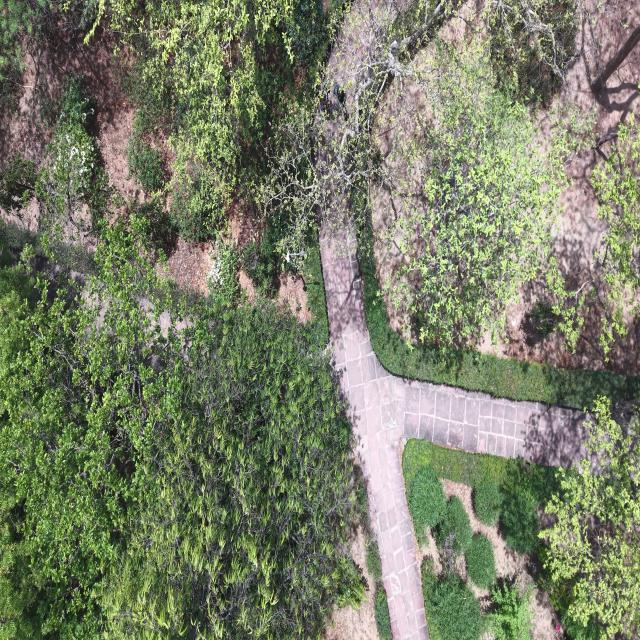DRY_AREA: (320, 229, 584, 639), (320, 233, 584, 639), (459, 0, 639, 374), (320, 236, 584, 465), (484, 0, 639, 374), (319, 229, 428, 639), (320, 235, 427, 639), (0, 10, 151, 221), (0, 11, 144, 214), (442, 479, 564, 639), (323, 524, 378, 639)
PATHWAYS: (320, 234, 585, 639)
VEGETATION_TREE: (0, 0, 639, 639), (1, 77, 362, 636), (103, 2, 583, 344), (112, 2, 573, 342), (0, 224, 363, 639), (263, 3, 589, 343), (264, 2, 585, 345), (371, 2, 639, 349), (371, 2, 639, 348), (102, 1, 450, 265), (110, 2, 454, 252), (102, 312, 363, 637), (371, 2, 589, 343), (90, 0, 339, 296), (372, 40, 574, 343), (104, 1, 328, 240), (0, 263, 129, 639), (359, 252, 639, 408), (141, 2, 294, 237), (260, 4, 403, 254), (0, 72, 172, 273), (0, 73, 128, 273), (1, 72, 122, 271), (540, 398, 639, 637), (547, 111, 639, 358), (402, 440, 565, 556), (402, 439, 561, 552), (23, 76, 110, 269), (402, 439, 557, 545), (408, 464, 493, 639), (233, 219, 327, 348), (591, 112, 639, 353), (0, 0, 94, 110), (485, 0, 576, 106), (122, 58, 173, 201), (408, 466, 471, 571), (354, 467, 391, 639), (531, 256, 596, 351), (42, 78, 94, 196), (420, 555, 483, 639), (500, 461, 556, 554), (402, 438, 509, 486), (536, 566, 604, 639), (0, 244, 35, 364), (425, 575, 482, 639), (500, 464, 539, 554), (241, 221, 286, 299), (431, 496, 472, 581), (0, 0, 44, 79), (300, 233, 328, 345), (127, 120, 165, 192), (285, 0, 327, 63), (485, 583, 532, 639), (407, 466, 445, 534), (0, 156, 35, 215), (431, 502, 459, 572), (207, 240, 237, 304), (464, 533, 495, 588), (420, 554, 439, 639), (520, 462, 558, 504), (443, 496, 471, 551), (420, 554, 438, 639), (473, 479, 501, 525), (525, 300, 557, 340), (561, 612, 602, 639), (373, 581, 391, 639), (365, 541, 380, 581)
